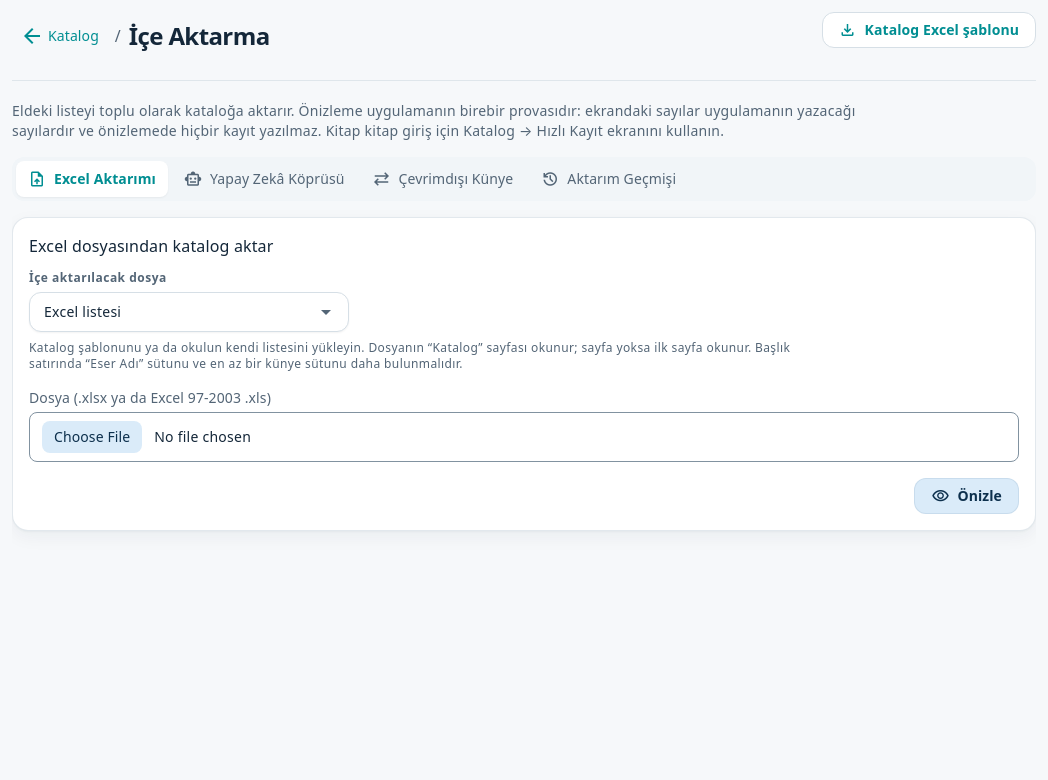
Test case: İçe Aktarma — Excel › dosya seçilmeden önizleme istenirse istek çıkmaz, kullanıcıya söylenir
The width and height of the screenshot is (1048, 780).
Expected: the heading "İçe Aktarma" is shown, [129,20,270,52]
Click the button "Önizle" at (967,496), box [914,478,1019,514]
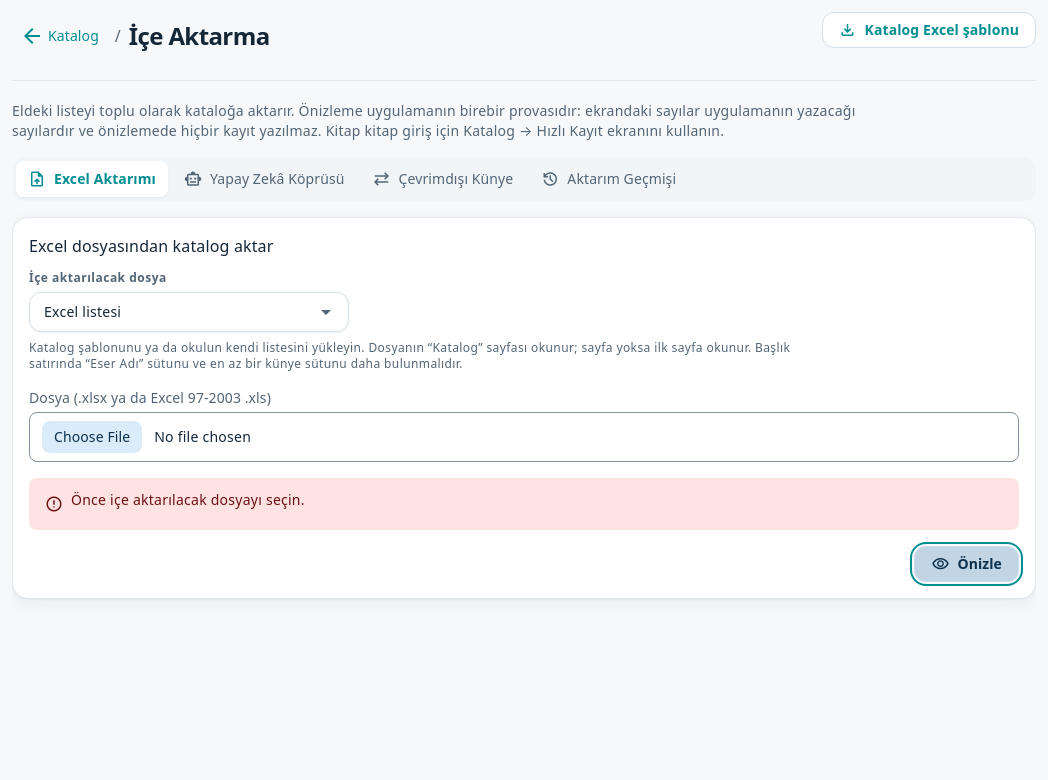
Now the text "Önce içe aktarılacak dosyayı seçin." is shown, box [71,490,305,510]
